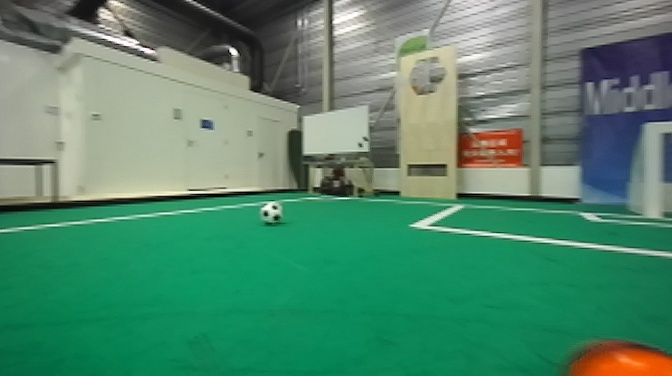ball: (553, 335, 672, 376), (258, 199, 285, 228)
goalpost: (641, 120, 664, 220)
